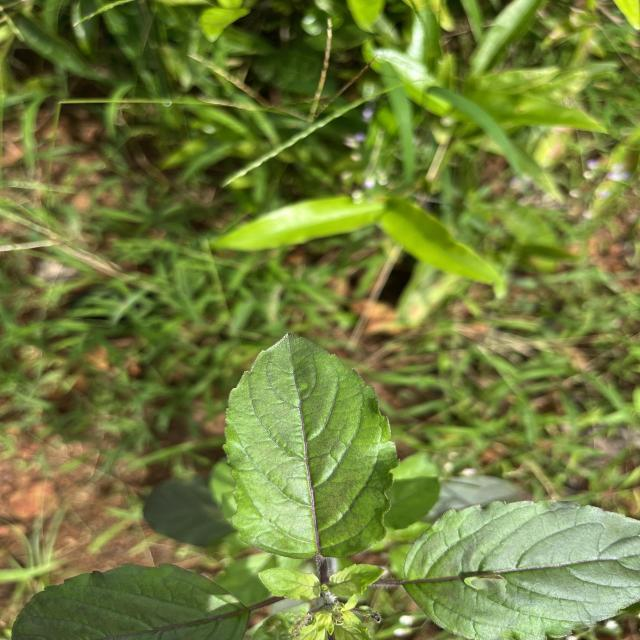Ocimum tenuiflorum: (219, 331, 402, 563)
